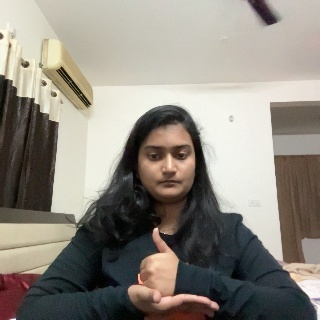Face: (141, 118, 194, 203)
Help: (121, 225, 220, 313)
